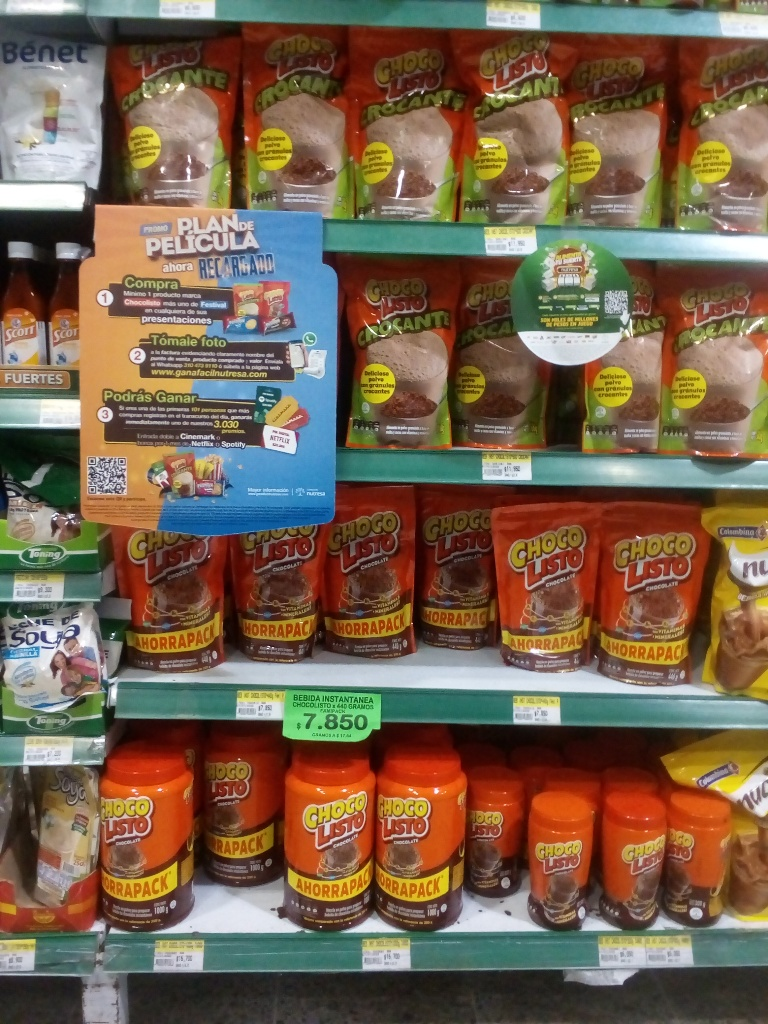COL0170102DYP50000: (104, 35, 241, 207)
COL0170103DYP44000: (106, 517, 230, 667)
COL0170103TRR00100: (100, 743, 197, 925)
COL0170103TRR30000: (472, 762, 525, 898)
